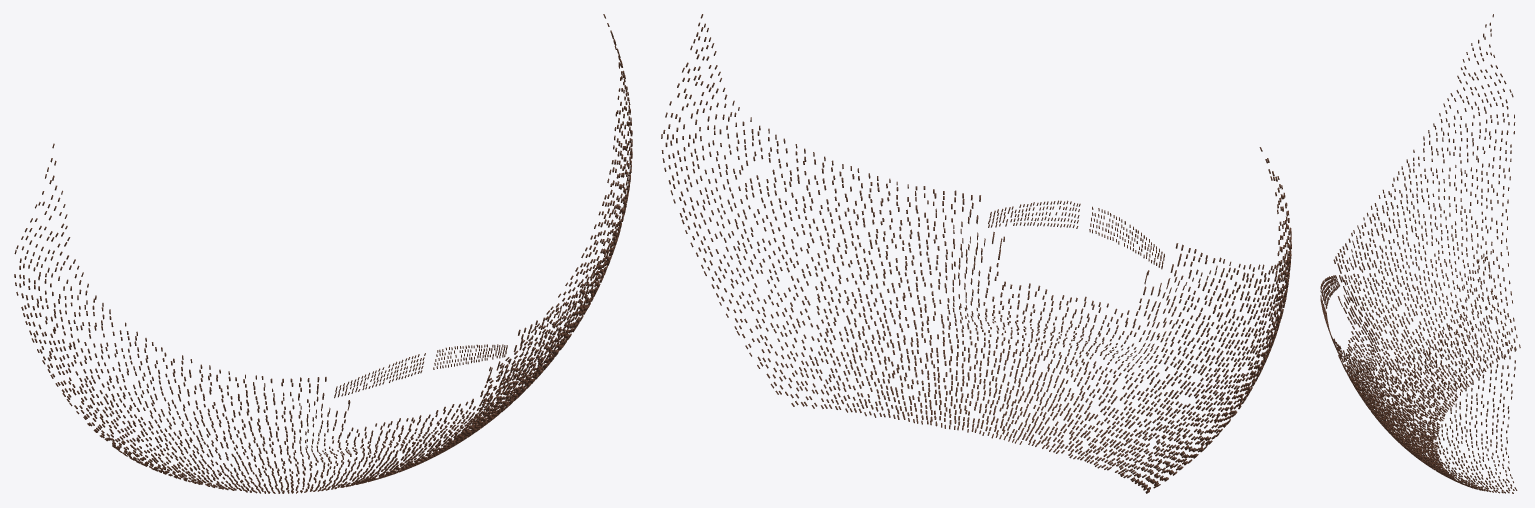
Rendered from Masculine-groom-stubble.glb.
3 views of the same model, side by side, from view 1: azimuth 30°, elevation 25°; view 2: azimuth 150°, elevation 25°; view 3: azimuth 270°, elevation 25° (orthographic). The views are drawn at different scales.
Parts seen in each view (by area): view 1: Groom / clean stubble184, Groom / upper lip stubble191; view 2: Groom / clean stubble184, Groom / upper lip stubble191; view 3: Groom / clean stubble184, Groom / upper lip stubble191.
Boxes of the visible parts, left/top/right/bottom form: Groom / clean stubble184: left=14, top=14, right=632, bottom=493; Groom / upper lip stubble191: left=334, top=344, right=507, bottom=398; Groom / clean stubble184: left=661, top=14, right=1291, bottom=493; Groom / upper lip stubble191: left=988, top=200, right=1164, bottom=269; Groom / clean stubble184: left=1333, top=14, right=1520, bottom=493; Groom / upper lip stubble191: left=1320, top=275, right=1339, bottom=354.
Size of the model in its own units: 0.9533 by 0.5779 by 0.3276.
